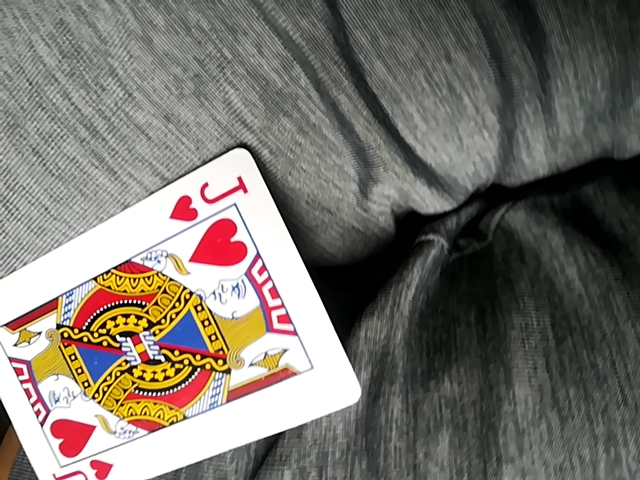hx j: (6, 147, 360, 480)
